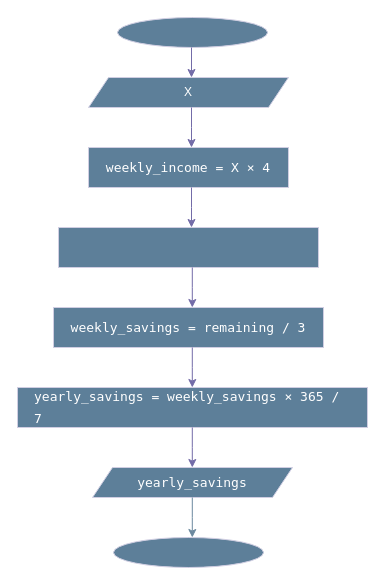
This 385x585 diagram has some shape labels left out. Each missing label, with the centre of its shape:
remaining = weekly_income - X: point 188,247
Конец: point 188,552
Начало: point 192,32
